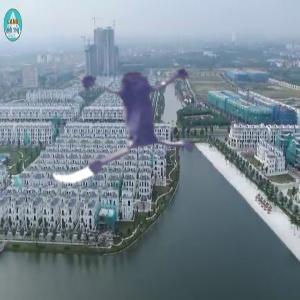drone: (21, 9, 221, 209)
